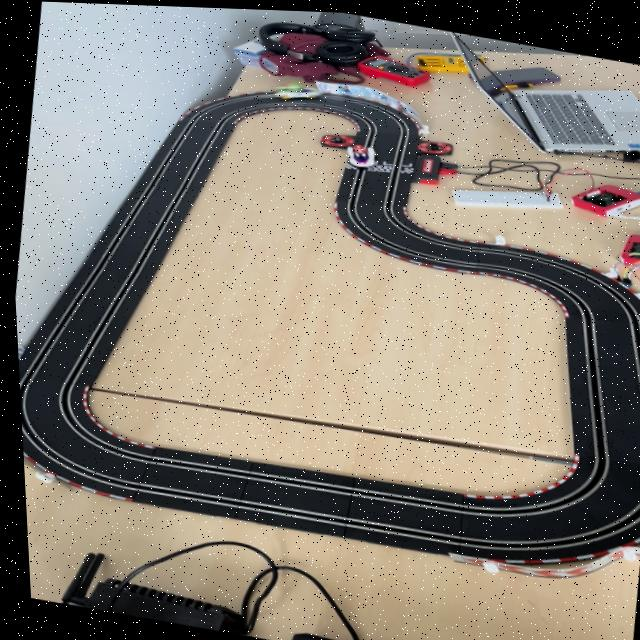mario: (343, 140, 379, 169)
yoshi: (271, 76, 328, 106)
